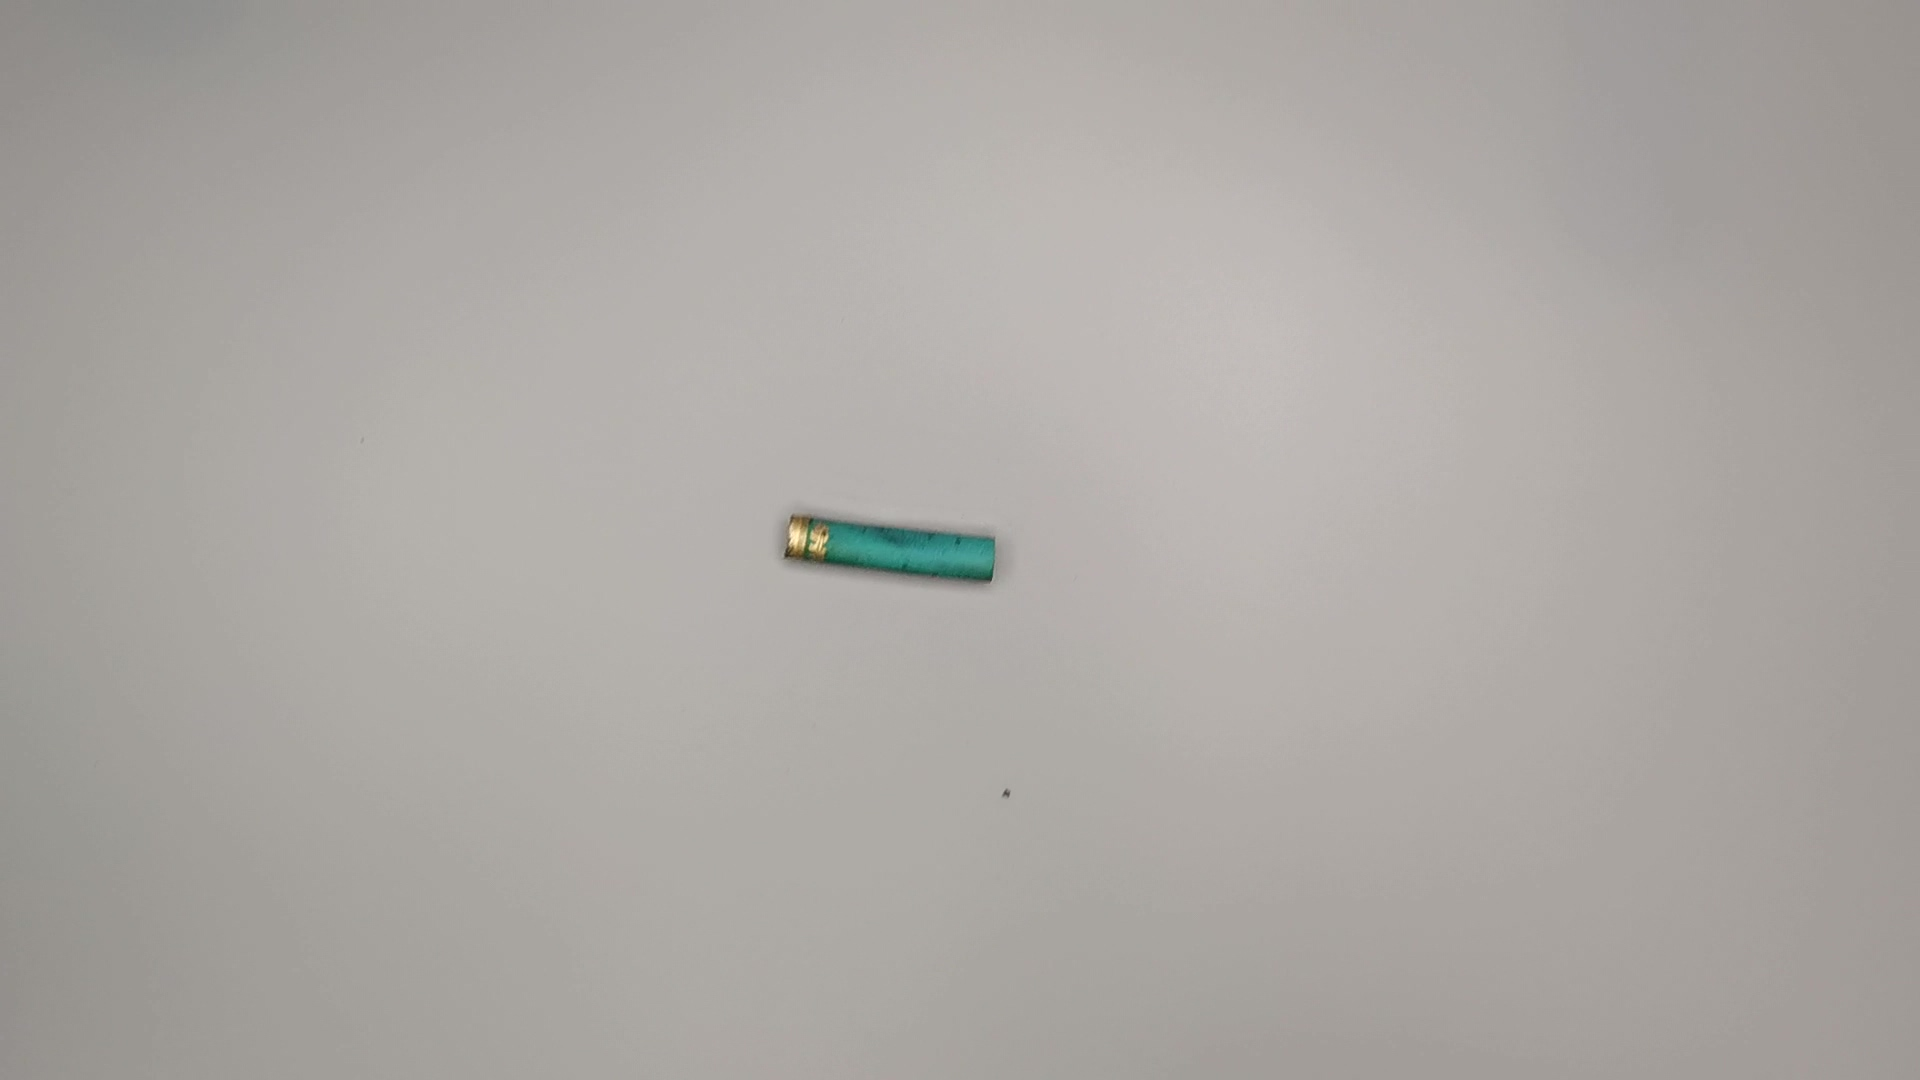cigarette: (775, 509, 1004, 591)
